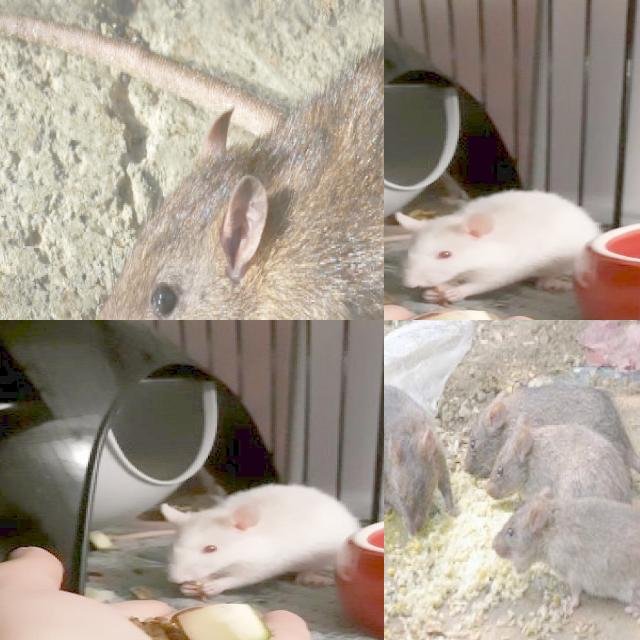rat: (74, 10, 384, 320), (384, 188, 609, 303), (159, 484, 361, 598), (496, 491, 640, 615), (384, 386, 454, 530)
